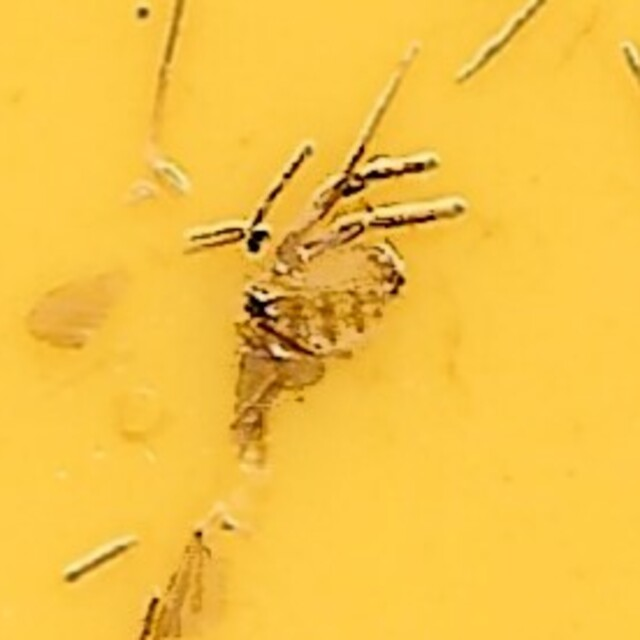Nematocera: (232, 262, 408, 378)
